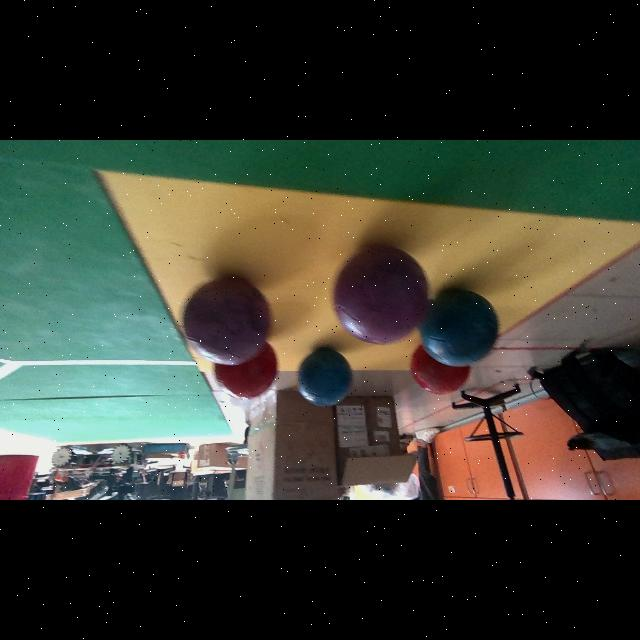B: (419, 291, 499, 366), (299, 348, 351, 406)
P: (333, 247, 428, 344), (184, 277, 270, 363)
R: (215, 345, 277, 400), (411, 346, 470, 394)
